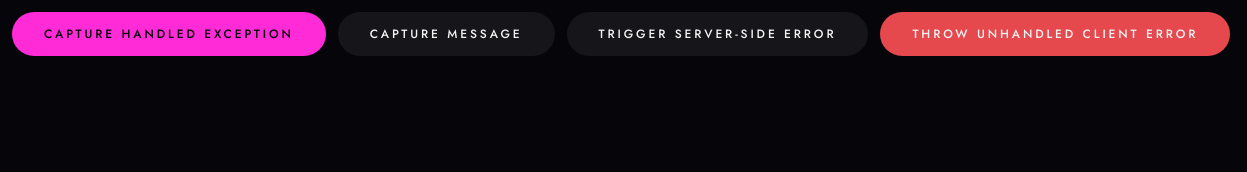
it: TelemetryTestPanel › triggers the server action and displays its event id
The width and height of the screenshot is (1247, 172).
Click the button "Trigger server-side error": (717, 34) [566,12,868,56]
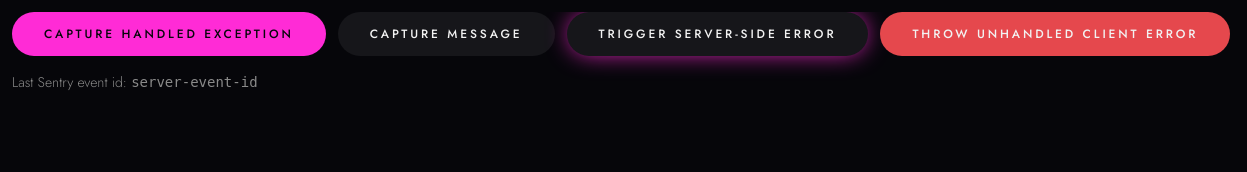
Check: the text "server-event-id" is shown, box [131,74,258,90]
